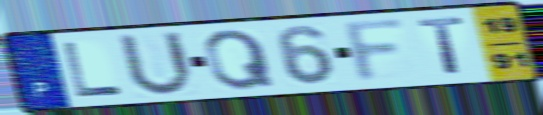6: (273, 23, 336, 88)
F: (341, 15, 411, 86)
L: (59, 40, 125, 99)
Q: (201, 27, 279, 92)
T: (414, 15, 470, 77)
U: (114, 30, 197, 99)
